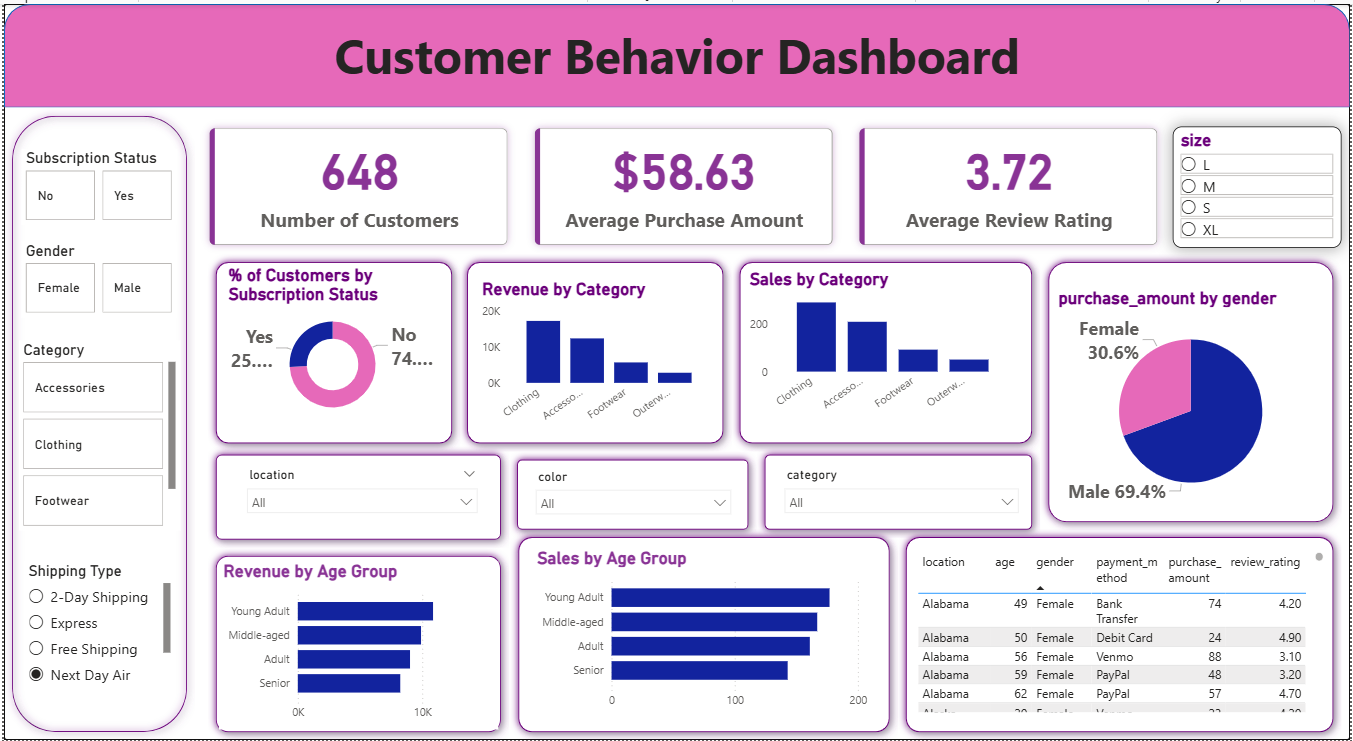

This screenshot's page, from the dashboard's own definition file:
{"tool":"powerbi","page":{"name":"Page 1","canvas":[1500,820],"ordinal":0},"visuals":[{"type":"cardVisual","fields":{"Data":["public customer.Number of Customers","public customer.Average Purchase Amount","public customer.Average Review Rating"]},"box":[213.1,122.6,1089.1,162.9],"z":0},{"type":"shape","box":[0,0,1499.4,115.3],"z":1000},{"type":"textbox","box":[0,15.3,1499.9,100.3],"z":2000},{"type":"shape","box":[227,605.8,335.6,214.5],"z":2500,"group":"g1"},{"type":"shape","box":[227,278.5,281.3,220],"z":3000},{"type":"donutChart","title":"% of Customers by Subscription Status","fields":{"Category":["public customer.subscription_status"],"Y":["CountNonNull(public customer.customer_id)"]},"box":[245.1,291.1,242.3,178.3],"z":4000},{"type":"shape","box":[810.5,278.5,344,220],"z":5000},{"type":"shape","box":[506.9,278.5,303.6,220],"z":6000},{"type":"clusteredColumnChart","title":"Revenue by Category","fields":{"Y":["Sum(public customer.purchase_amount)"],"Category":["public customer.category"]},"box":[527.8,306.4,264.6,169.9],"z":7000},{"type":"clusteredColumnChart","title":"Sales by Category","fields":{"Y":["CountNonNull(public customer.customer_id)"],"Category":["public customer.category"]},"box":[825.9,295.2,300.8,168.5],"z":8000},{"type":"shape","box":[0,115.3,212.9,704.5],"z":9000},{"type":"advancedSlicerVisual","fields":{"Values":["public customer.subscription_status"]},"box":[19.5,161.5,173.9,85.2],"z":10000},{"type":"advancedSlicerVisual","fields":{"Values":["public customer.gender"]},"box":[19.5,264.4,173.9,85.2],"z":11000},{"type":"advancedSlicerVisual","fields":{"Values":["public customer.category"]},"box":[16.7,374.6,179.7,211.7],"z":12000},{"type":"listSlicer","fields":{"Values":["public customer.shipping_type"]},"box":[22.3,621.1,168.5,144.8],"z":13000},{"type":"shape","box":[564,584.9,431.7,235.4],"z":14000},{"type":"clusteredBarChart","title":"Sales by Age Group","fields":{"Y":["CountNonNull(public customer.customer_id)"],"Category":["public customer.age_group"]},"box":[589.1,605.8,377.4,188],"z":15000},{"type":"group","id":"g1","title":"Group 1","box":[227,605.8,335.6,214.5],"z":16000},{"type":"listSlicer","fields":{"Values":["public customer.size"]},"box":[1302.1,136.5,188,135.1],"z":17000},{"type":"clusteredBarChart","title":"Revenue by Age Group","fields":{"Y":["Sum(public customer.purchase_amount)"],"Category":["public customer.age_group"]},"box":[239.3,620.4,311.1,186.8],"z":17500,"group":"g1"},{"type":"shape","box":[995.8,584.9,494.4,235.4],"z":18000},{"type":"tableEx","fields":{"Values":["public customer.location","public customer.age","public customer.gender","public customer.payment_method","public customer.purchase_amount","public customer.review_rating"]},"box":[1012.5,605.8,462.4,188],"z":19000},{"type":"shape","box":[1154.5,278.5,335.6,307.8],"z":20000},{"type":"pieChart","fields":{"Category":["public customer.gender"],"Y":["Sum(public customer.purchase_amount)"]},"box":[1169.8,316.1,305,253.5],"z":21000},{"type":"shape","box":[227,493,335.6,112.8],"z":22000},{"type":"slicer","fields":{"Values":["public customer.location"]},"box":[260.4,511.1,277.1,76.6],"z":23000},{"type":"shape","box":[562.6,498.6,275.7,96.1],"z":24000},{"type":"slicer","fields":{"Values":["public customer.color"]},"box":[582.1,512.5,238.1,64.1],"z":25000},{"type":"shape","box":[838.4,493,316.1,101.7],"z":26000},{"type":"slicer","fields":{"Values":["public customer.category"]},"box":[859.3,511.1,281.3,65.5],"z":26001}]}

Visuals, with their boxes in screenshot pixels (x1, y1, x2, y2), scaled from the page's 1500x820 canvas onto the 1353x741 screenshot:
cardVisual - public customer.Number of Customers x public customer.Average Purchase Amount: [192, 111, 1175, 258]
shape: [0, 0, 1352, 104]
textbox: [0, 14, 1352, 104]
shape: [205, 547, 507, 740]
shape: [205, 252, 458, 450]
"% of Customers by Subscription Status" donutChart: [221, 263, 440, 424]
shape: [731, 252, 1041, 450]
shape: [457, 252, 731, 450]
"Revenue by Category" clusteredColumnChart: [476, 277, 715, 430]
"Sales by Category" clusteredColumnChart: [745, 267, 1016, 419]
shape: [0, 104, 192, 740]
advancedSlicerVisual - public customer.subscription_status: [18, 146, 174, 223]
advancedSlicerVisual - public customer.gender: [18, 239, 174, 316]
advancedSlicerVisual - public customer.category: [15, 339, 177, 530]
listSlicer - public customer.shipping_type: [20, 561, 172, 692]
shape: [509, 529, 898, 740]
"Sales by Age Group" clusteredBarChart: [531, 547, 872, 717]
"Group 1" group: [205, 547, 507, 740]
listSlicer - public customer.size: [1174, 123, 1344, 245]
"Revenue by Age Group" clusteredBarChart: [216, 561, 496, 729]
shape: [898, 529, 1344, 740]
tableEx - public customer.location x public customer.age: [913, 547, 1330, 717]
shape: [1041, 252, 1344, 530]
pieChart - public customer.gender x Sum(public customer.purchase_amount): [1055, 286, 1330, 515]
shape: [205, 446, 507, 547]
slicer - public customer.location: [235, 462, 485, 531]
shape: [507, 451, 756, 537]
slicer - public customer.color: [525, 463, 740, 521]
shape: [756, 446, 1041, 537]
slicer - public customer.category: [775, 462, 1029, 521]
